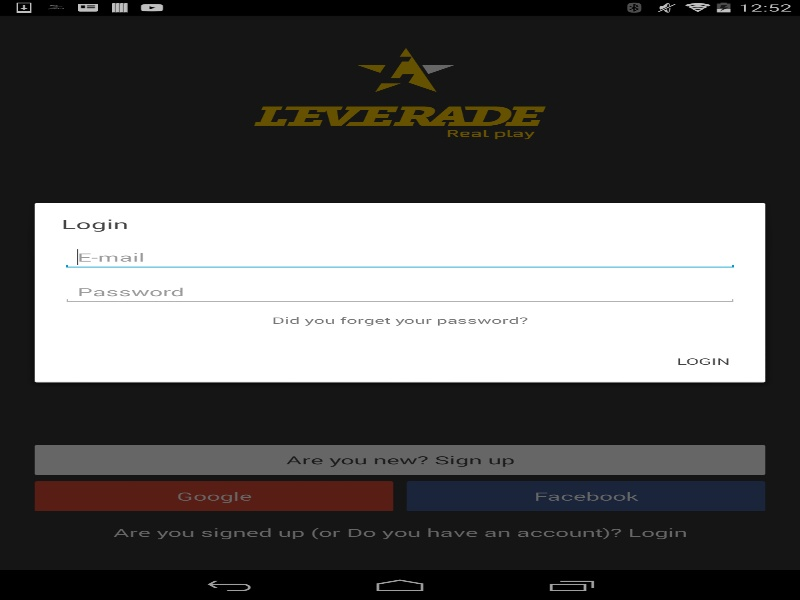Input: (61, 279, 738, 304), (61, 245, 738, 269)
